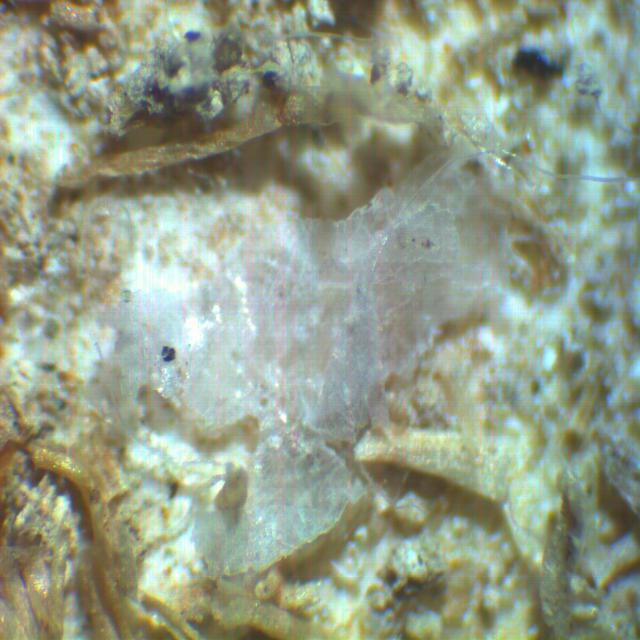microplastic: (99, 112, 527, 578)
